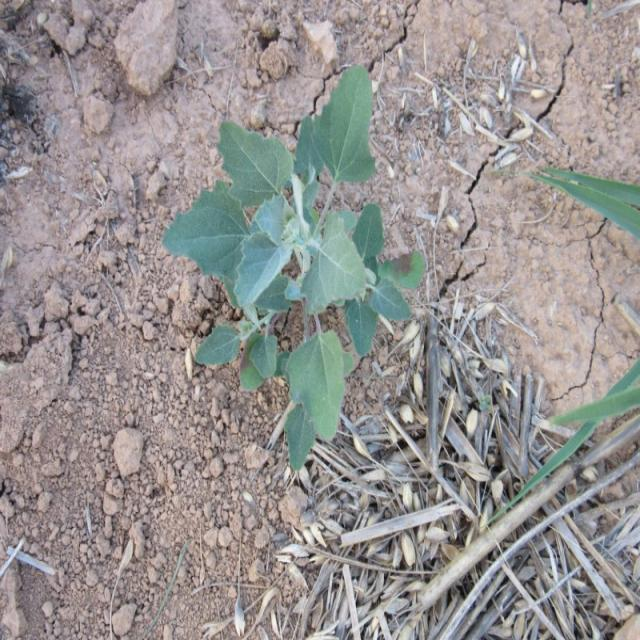ca: (165, 68, 425, 470)
